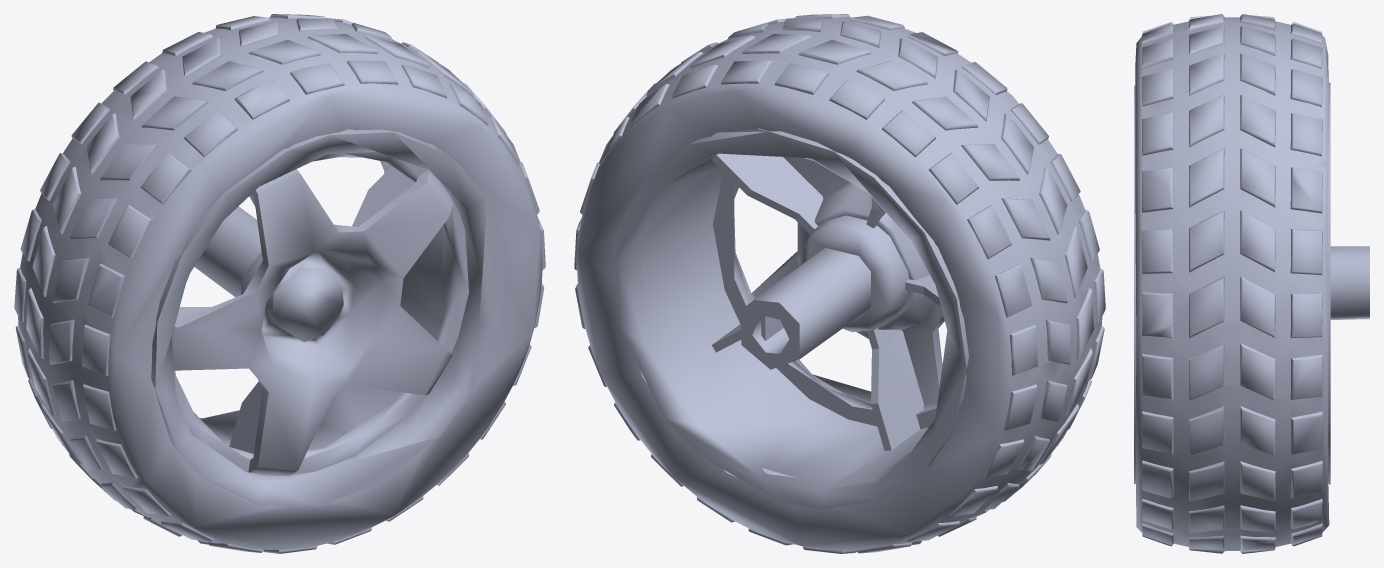
File: cuna-rueda.glb
3 views of the same model, side by side, from view 1: azimuth 30°, elevation 25°; view 2: azimuth 150°, elevation 25°; view 3: azimuth 270°, elevation 25° (orthographic).
Parts seen in each view (by area): view 1: rueda; view 2: rueda; view 3: rueda.
Boxes of the visible parts, bbox=[...] form: rueda: bbox=[14, 14, 545, 553]; rueda: bbox=[574, 14, 1105, 553]; rueda: bbox=[1134, 14, 1369, 553].
Bounding box in the file's own units: 0.0687 × 0.0688 × 0.03.
